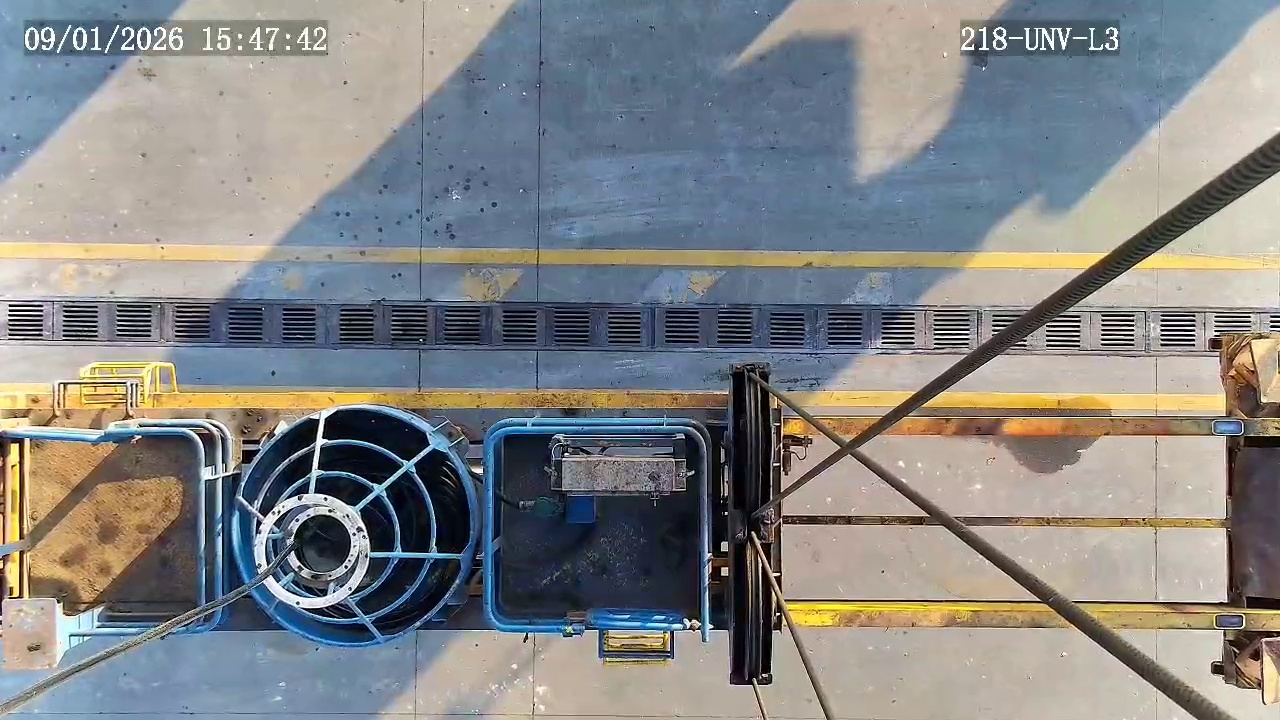right: (233, 404, 477, 647)
